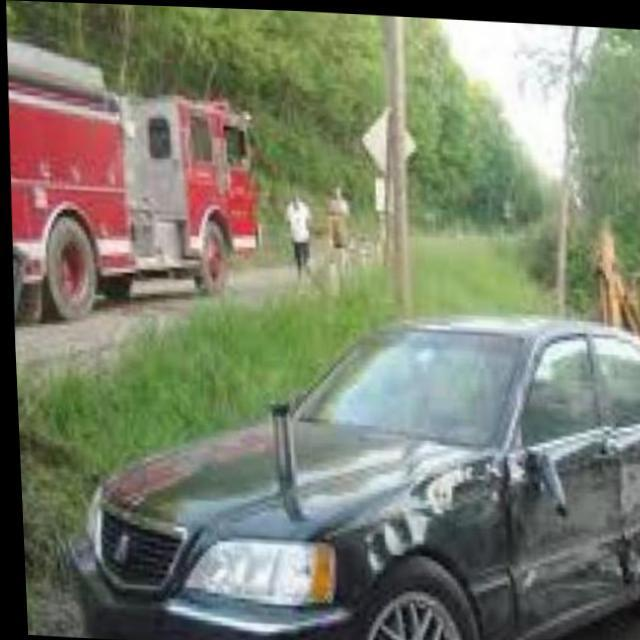crash: (337, 421, 640, 625)
